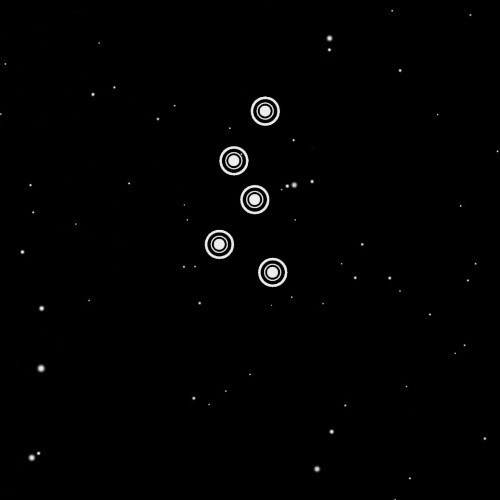cassiopeia: (193, 77, 301, 303)
